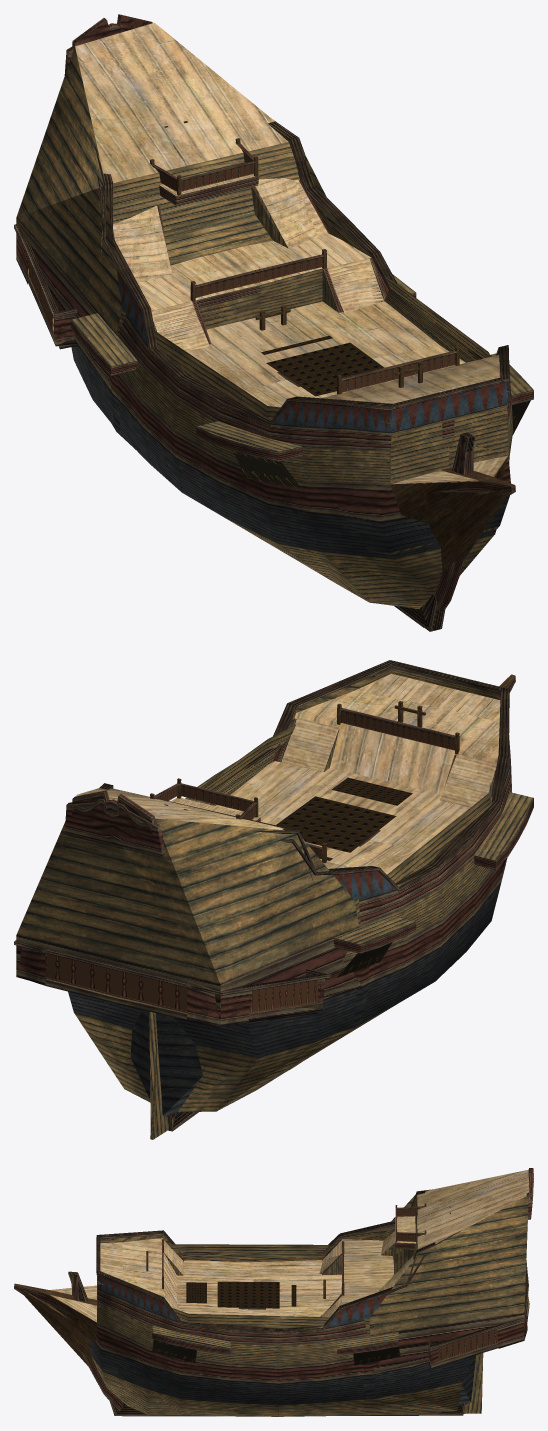
Rendered from pir_m_shp_brig_light.fbx.
The picture shows the model from 3 angles, top to bottom: view 1: azimuth 30°, elevation 25°; view 2: azimuth 150°, elevation 25°; view 3: azimuth 270°, elevation 25°; orthographic projection. The views are drawn at different scales.
Parts seen in each view (by area): view 1: decks_stairs.004, polySurface155, hullB.003, cabin_door_wall.002, decks_stairs.003, decks_stairs.001, hull_lower.001, bottom_hull_dark, main_hull, hull.003, main_rail1, fore_pattern (+27 smaller); view 2: polySurface155, aft_wall4, ship_deck_deck, hullB.003, ship_deck_deck.001, dark.001, custom.002, hullB.002, decks_stairs.004, grate_1, balcony_outside_back, hull_lower.001 (+25 smaller); view 3: polySurface156, decks_stairs.004, hullB.003, bottom_hull_dark, hull_lower.001, ship_deck_deck, main_hull, hull.003, pattern_0, decks_stairs.001, custom.002, ship_deck_deck.001 (+33 smaller).
Boxes of the visible parts, box(x1,y1,x2,y2) form: decks_stairs.004: box(75, 22, 508, 420); polySurface155: box(16, 47, 121, 334); hullB.003: box(71, 345, 496, 558); cabin_door_wall.002: box(101, 142, 299, 265); decks_stairs.003: box(113, 174, 383, 350); decks_stairs.001: box(137, 174, 370, 345); hull_lower.001: box(117, 373, 512, 516); bottom_hull_dark: box(228, 519, 494, 608); main_hull: box(118, 337, 513, 484); hull.003: box(118, 315, 511, 451); main_rail1: box(94, 120, 509, 423); fore_pattern: box(272, 381, 509, 432); polySurface155: box(155, 818, 359, 984); aft_wall4: box(16, 820, 220, 984); ship_deck_deck: box(230, 673, 500, 849); hullB.003: box(68, 882, 501, 1057); ship_deck_deck.001: box(294, 691, 499, 794); dark.001: box(74, 1013, 257, 1112); custom.002: box(16, 935, 361, 1024); hullB.002: box(130, 1010, 202, 1116); decks_stairs.004: box(76, 768, 417, 874); grate_1: box(276, 796, 396, 852); balcony_outside_back: box(46, 953, 187, 1012); hull_lower.001: box(324, 858, 507, 999); polySurface156: box(369, 1195, 528, 1335); decks_stairs.004: box(97, 1170, 528, 1316); hullB.003: box(90, 1352, 475, 1405); bottom_hull_dark: box(91, 1355, 462, 1416); hull_lower.001: box(97, 1323, 428, 1384); ship_deck_deck: box(100, 1240, 253, 1315); main_hull: box(97, 1301, 367, 1365); hull.003: box(97, 1289, 367, 1345); pattern_0: box(97, 1244, 370, 1336); decks_stairs.001: box(324, 1194, 526, 1306); custom.002: box(371, 1314, 524, 1374); ship_deck_deck.001: box(122, 1238, 176, 1303).
Bounding box in the file's own units: 6559 × 7755 × 14994.
Materials: 2 (2 with a texture image).
